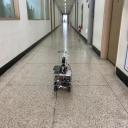cart: (52, 68, 72, 92)
